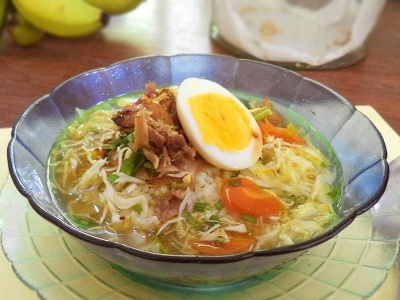soto: (55, 84, 350, 251)
